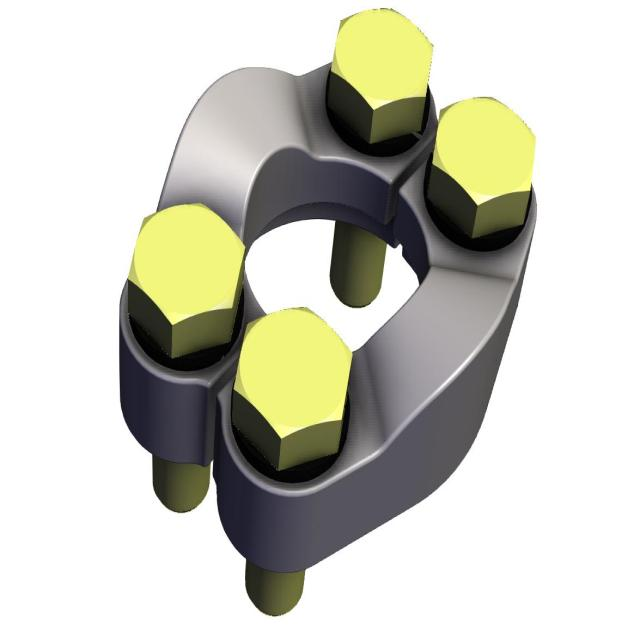bolt head: (230, 306, 354, 472), (125, 200, 246, 360), (426, 94, 536, 240), (326, 5, 435, 146)
